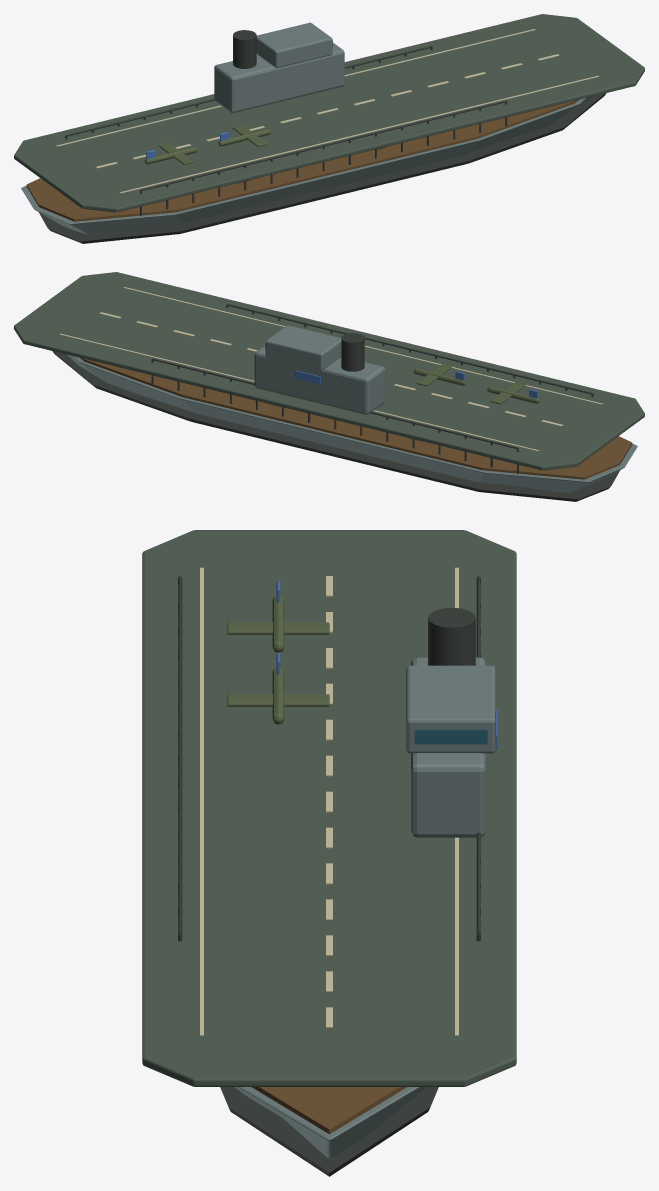
Rendered from carrier.glb.
3 renders of one model, top to bottom at view 1: azimuth 30°, elevation 25°; view 2: azimuth 150°, elevation 25°; view 3: azimuth 270°, elevation 25°, orthographic. The views are drawn at different scales.
Parts seen in each view (by area): view 1: RoofMetal, NavalPaint, Steel, Timber, Markings, Armor; view 2: RoofMetal, NavalPaint, Steel, Timber, Markings, Armor, TeamColor; view 3: RoofMetal, NavalPaint, Steel, Markings, Timber, Armor, Optics.
Boxes of the visible parts, left/top/right/bottom form: RoofMetal: left=14, top=14, right=644, bottom=212; NavalPaint: left=21, top=22, right=590, bottom=234; Steel: left=39, top=30, right=606, bottom=243; Timber: left=26, top=100, right=578, bottom=221; Markings: left=56, top=29, right=599, bottom=193; Armor: left=144, top=125, right=270, bottom=164; RoofMetal: left=14, top=272, right=644, bottom=470; NavalPaint: left=67, top=325, right=637, bottom=492; Steel: left=52, top=304, right=619, bottom=501; Timber: left=80, top=358, right=632, bottom=479; Markings: left=59, top=287, right=602, bottom=451; Armor: left=413, top=364, right=539, bottom=404; TeamColor: left=295, top=370, right=538, bottom=398; RoofMetal: left=142, top=530, right=516, bottom=1086; NavalPaint: left=234, top=657, right=495, bottom=1158; Steel: left=178, top=576, right=480, bottom=1176; Markings: left=200, top=567, right=458, bottom=1035; Timber: left=252, top=1087, right=406, bottom=1134; Armor: left=227, top=596, right=329, bottom=724; Optics: left=414, top=729, right=487, bottom=744.
Bounding box in the file's own units: 15.93 × 3.27 × 4.4.
